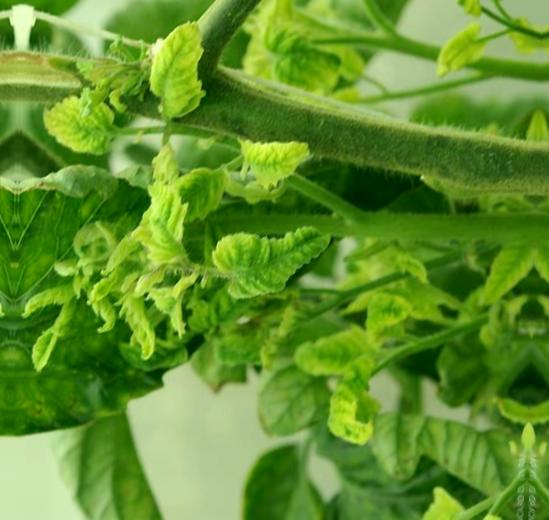Tomato leaf yellow virus: (194, 207, 334, 300), (213, 126, 338, 193), (136, 17, 204, 118), (142, 147, 203, 256)
